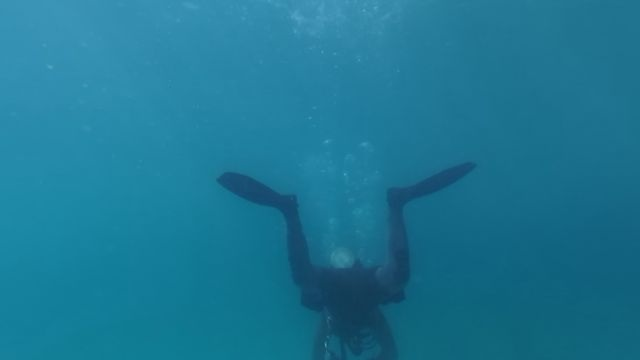Diver: (209, 157, 475, 354)
